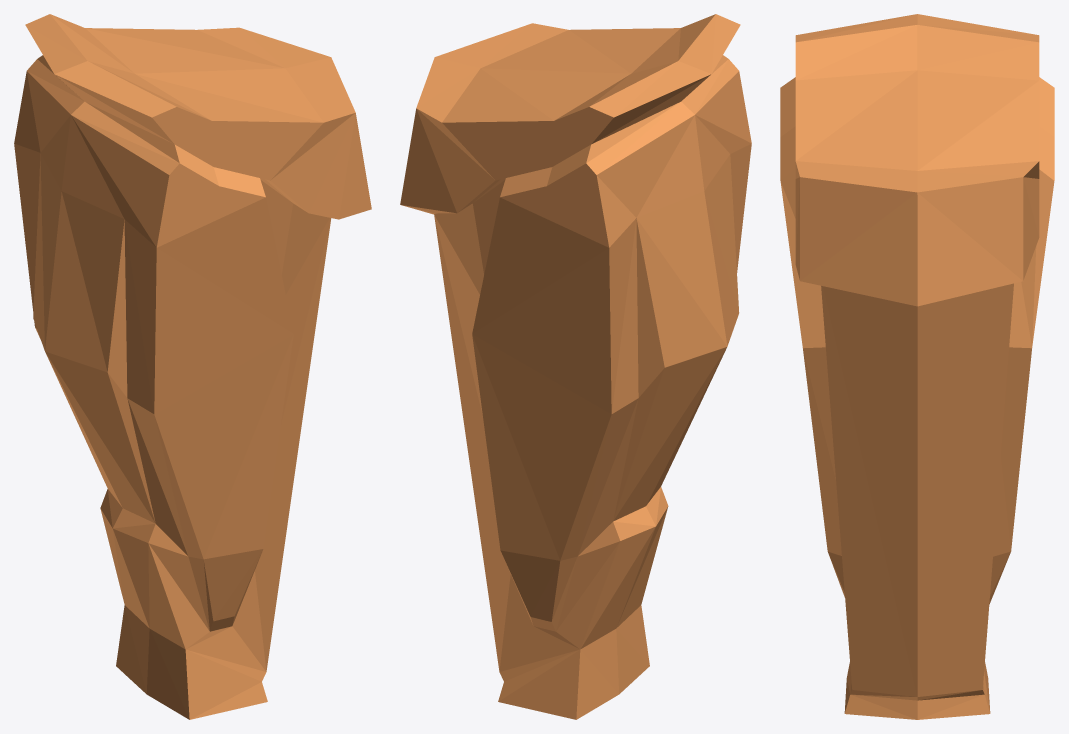
The model's file is Rock_Large_Canyon_Eroded_24.FBX.
3 renders of one model, left to right at view 1: azimuth 30°, elevation 25°; view 2: azimuth 150°, elevation 25°; view 3: azimuth 270°, elevation 25°, orthographic. The views are drawn at different scales.
Parts seen in each view (by area): view 1: Rock_Large_Canyon_Eroded_24; view 2: Rock_Large_Canyon_Eroded_24; view 3: Rock_Large_Canyon_Eroded_24.
Part boxes in pixels (left/top/right/bottom): Rock_Large_Canyon_Eroded_24: left=14, top=14, right=371, bottom=719; Rock_Large_Canyon_Eroded_24: left=400, top=14, right=751, bottom=719; Rock_Large_Canyon_Eroded_24: left=780, top=14, right=1054, bottom=719.
Size of the model in its own units: 6239 by 12416 by 4953.
